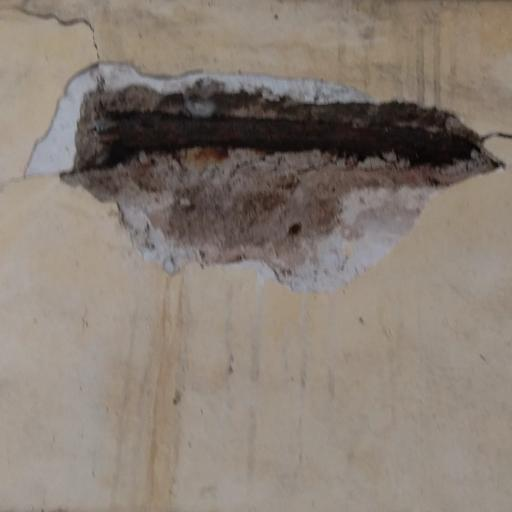spalling: (21, 22, 510, 295)
